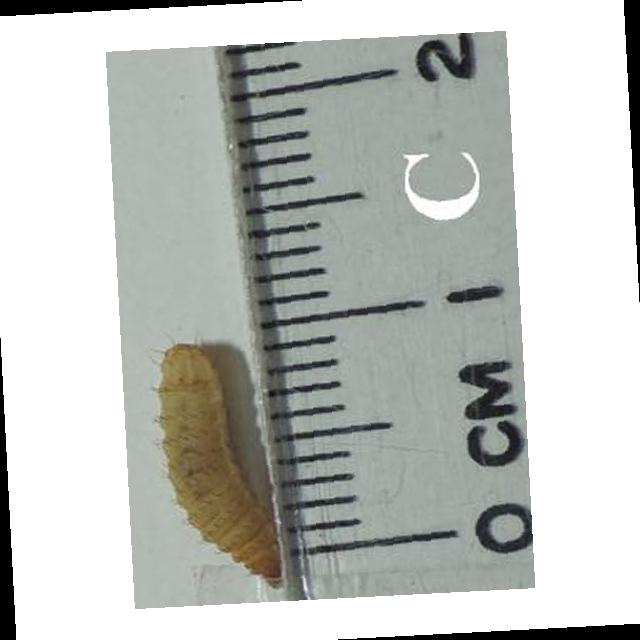Maggot: (155, 342, 287, 583)
